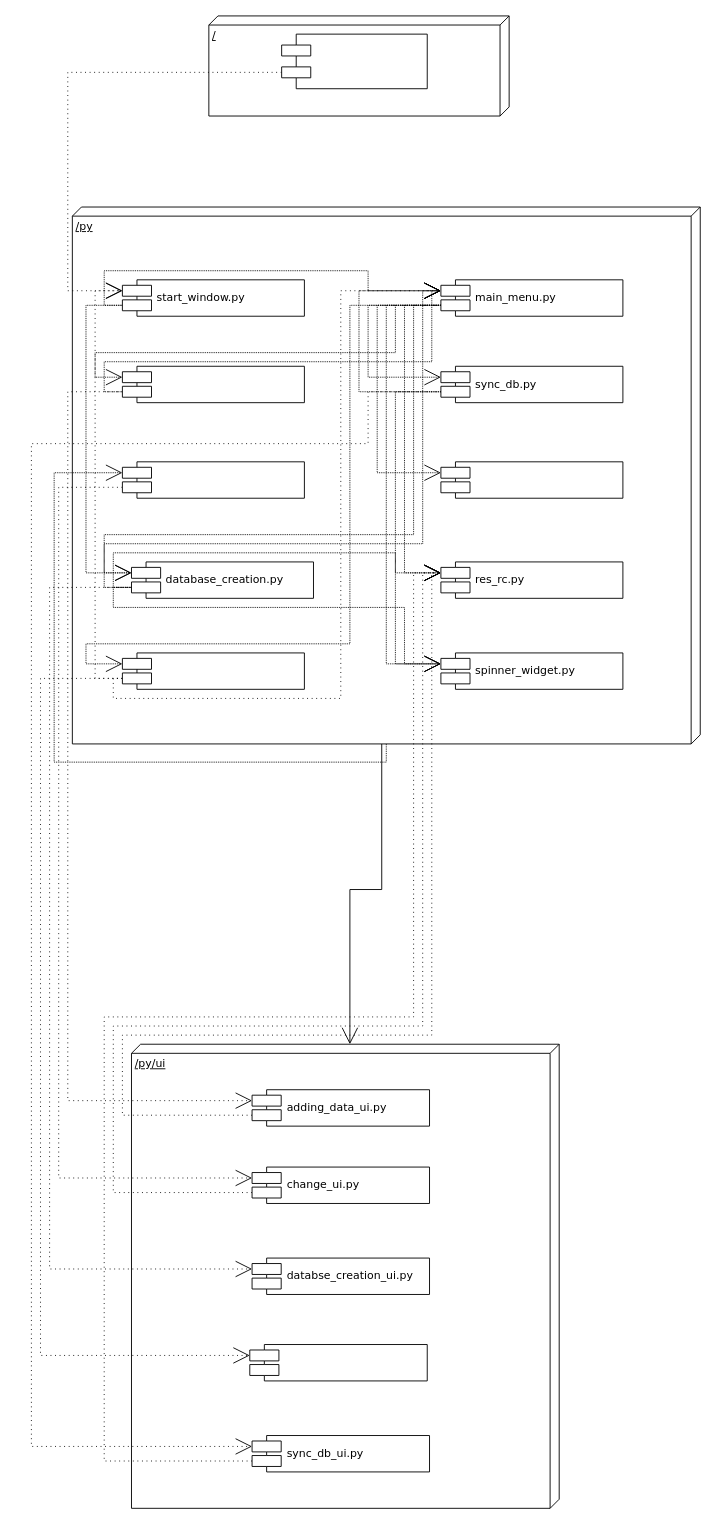
This 716x1524 diagram has some shape labels left out. The shapes that lost their labels are listed below. From the top down, each one's centre as x and y in pixels, then its label:
the point at 354,61: password_saver.py
the point at 212,384: adding_data.py
the point at 212,479: change.py
the point at 531,479: print_list.py
the point at 212,670: loading_db.py
the point at 338,1362: loading_db_ui.py
